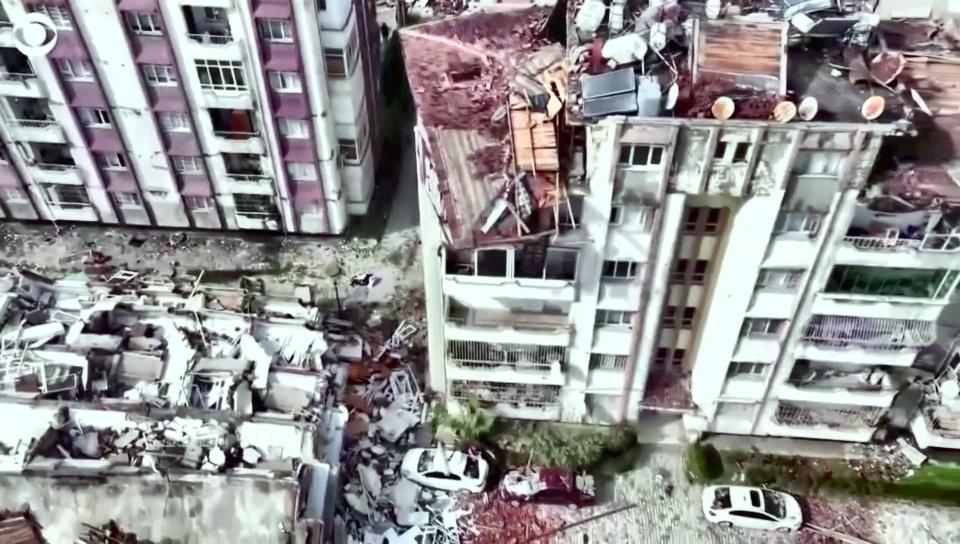kapali: (315, 210, 428, 543)
